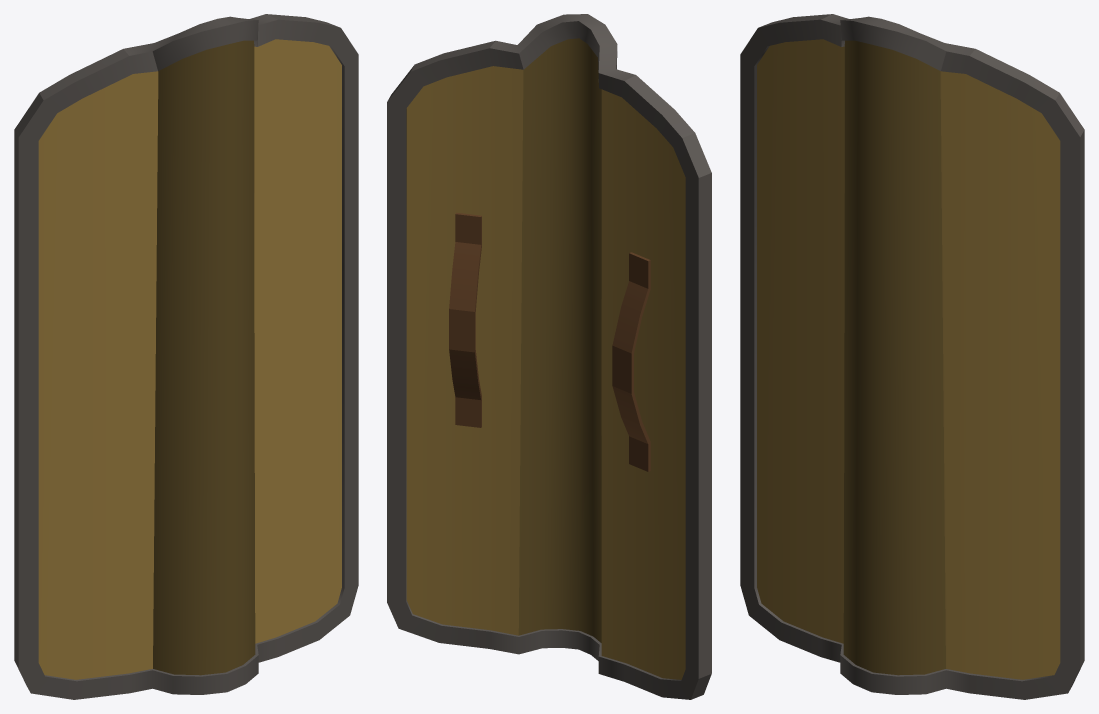
The model's file is Pavise Shield_Yellow.glb.
The picture shows the model from 3 angles, left to right: view 1: azimuth 30°, elevation 25°; view 2: azimuth 150°, elevation 25°; view 3: azimuth 330°, elevation 25°; orthographic projection. The views are drawn at different scales.
Visible parts, largest first — view 1: Pavise Shield_Yellow; view 2: Pavise Shield_Yellow; view 3: Pavise Shield_Yellow.
Boxes of the visible parts, x1,y1,x2,y2 form: Pavise Shield_Yellow: (14,14,358,699); Pavise Shield_Yellow: (387,14,711,699); Pavise Shield_Yellow: (740,14,1084,699).
Size of the model in its own units: 0.6521 by 1.22 by 0.1693.
Materials: 1 (1 with a texture image).
